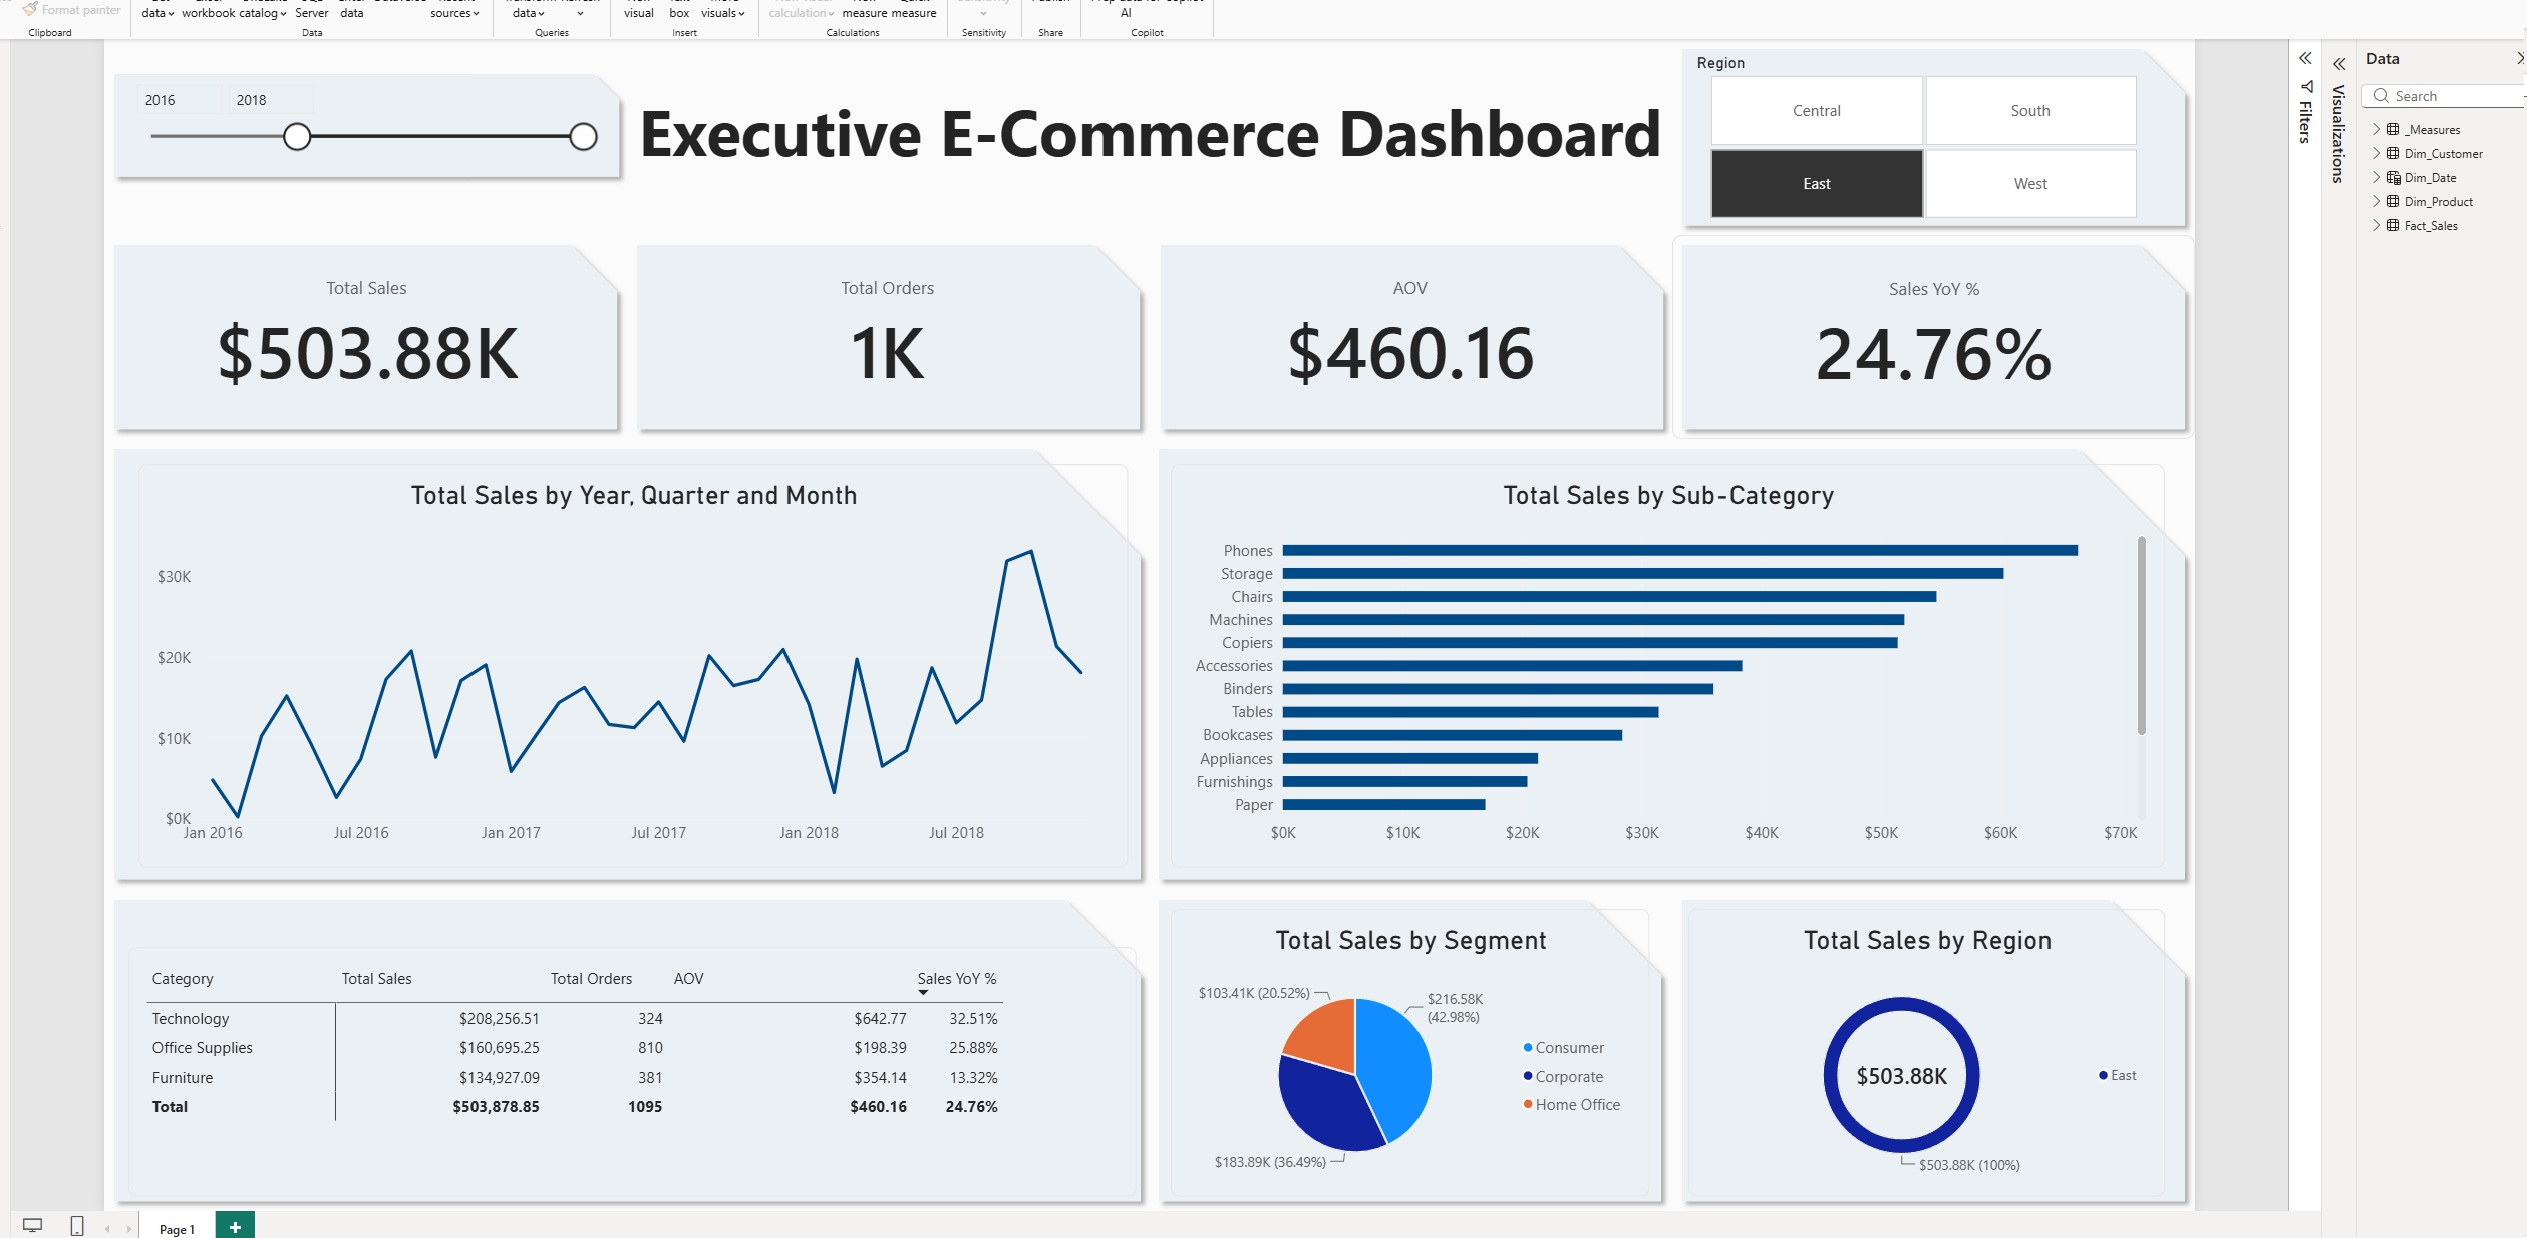

This screenshot's page, from the dashboard's own definition file:
{"tool":"powerbi","page":{"name":"Page 1","canvas":[1920,1080],"ordinal":0},"visuals":[{"type":"group","id":"g1","title":"background","box":[0,0,1920,1080],"z":0},{"type":"shape","box":[0,23,482,113],"z":0,"group":"g1"},{"type":"shape","box":[1440,0,480,181],"z":1000,"group":"g1"},{"type":"pivotTable","fields":{"Rows":["Dim_Product.Category"],"Values":["_Measures.Total Sales","_Measures.Total Orders","_Measures.AOV","_Measures.Sales YoY %"]},"box":[22,837,926,230],"z":1000},{"type":"slicer","title":"Year","fields":{"Values":["Dim_Date.Year"]},"box":[22,23,434,106],"z":2000},{"type":"shape","box":[0,181,480,188],"z":2000,"group":"g1"},{"type":"slicer","fields":{"Values":["Dim_Customer.Region"]},"box":[1455,14,431,153],"z":3000},{"type":"shape","box":[480,181,480,188],"z":3000,"group":"g1"},{"type":"cardVisual","fields":{"Data":["_Measures.Total Orders"]},"box":[480,181,479,188],"z":4000},{"type":"shape","box":[961,181,480,188],"z":4000,"group":"g1"},{"type":"cardVisual","fields":{"Data":["_Measures.Sales YoY %"]},"box":[1440,181,480,188],"z":5000},{"type":"shape","box":[1440,181,480,188],"z":5000,"group":"g1"},{"type":"cardVisual","fields":{"Data":["_Measures.AOV"]},"box":[960,181,479,188],"z":6000},{"type":"shape","box":[0,369,961,415],"z":6000,"group":"g1"},{"type":"cardVisual","fields":{"Data":["_Measures.Total Sales"]},"box":[0,181,482,188],"z":7000},{"type":"shape","box":[959,369,961,415],"z":7000,"group":"g1"},{"type":"lineChart","fields":{"Category":["Dim_Date.Date.Variation.Date Hierarchy.Year","Dim_Date.Date.Variation.Date Hierarchy.Quarter","Dim_Date.Date.Variation.Date Hierarchy.Month","Dim_Date.Date.Variation.Date Hierarchy.Day"],"Y":["_Measures.Total Sales"]},"box":[31,392,909,372],"z":8000},{"type":"shape","box":[0,784,961,296],"z":8000,"group":"g1"},{"type":"clusteredBarChart","fields":{"Category":["Dim_Product.Sub-Category"],"Y":["_Measures.Total Sales"]},"box":[980,392,913,372],"z":9000},{"type":"shape","box":[959,784,480,296],"z":9000,"group":"g1"},{"type":"shape","box":[1440,784,480,296],"z":10000,"group":"g1"},{"type":"pieChart","fields":{"Category":["Dim_Customer.Segment"],"Y":["_Measures.Total Sales"]},"box":[980,802,440,265],"z":10000},{"type":"donutChart","fields":{"Category":["Dim_Customer.Region"],"Y":["_Measures.Total Sales"]},"box":[1455,802,438,265],"z":11000},{"type":"textbox","box":[482,45,958,91],"z":12000}]}

Visuals, with their boxes on the page's 1920x1080 design canvas (x1, y1, x2, y2). These are canvas units, not pixel positions in the 2527x1238 screenshot, which may show the page scaled, cropped or inside an application window:
"background" group: 0:0:1920:1080
shape: 0:23:482:136
shape: 1440:0:1920:181
pivotTable - Dim_Product.Category x _Measures.Total Sales: 22:837:948:1067
"Year" slicer: 22:23:456:129
shape: 0:181:480:369
slicer - Dim_Customer.Region: 1455:14:1886:167
shape: 480:181:960:369
cardVisual - _Measures.Total Orders: 480:181:959:369
shape: 961:181:1441:369
cardVisual - _Measures.Sales YoY %: 1440:181:1920:369
shape: 1440:181:1920:369
cardVisual - _Measures.AOV: 960:181:1439:369
shape: 0:369:961:784
cardVisual - _Measures.Total Sales: 0:181:482:369
shape: 959:369:1920:784
lineChart - Dim_Date.Date.Variation.Date Hierarchy.Year x Dim_Date.Date.Variation.Date Hierarchy.Quarter: 31:392:940:764
shape: 0:784:961:1080
clusteredBarChart - Dim_Product.Sub-Category x _Measures.Total Sales: 980:392:1893:764
shape: 959:784:1439:1080
shape: 1440:784:1920:1080
pieChart - Dim_Customer.Segment x _Measures.Total Sales: 980:802:1420:1067
donutChart - Dim_Customer.Region x _Measures.Total Sales: 1455:802:1893:1067
textbox: 482:45:1440:136
